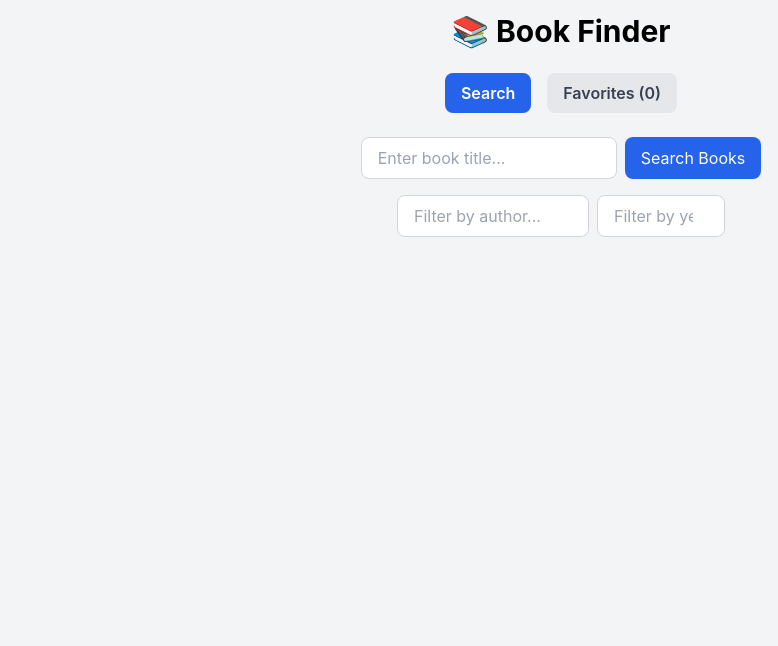
Test: BookFinder Component › filters by year
Type "Books" into the field with placeholder "Enter book title..." at (489, 158), box [361,137,617,179]
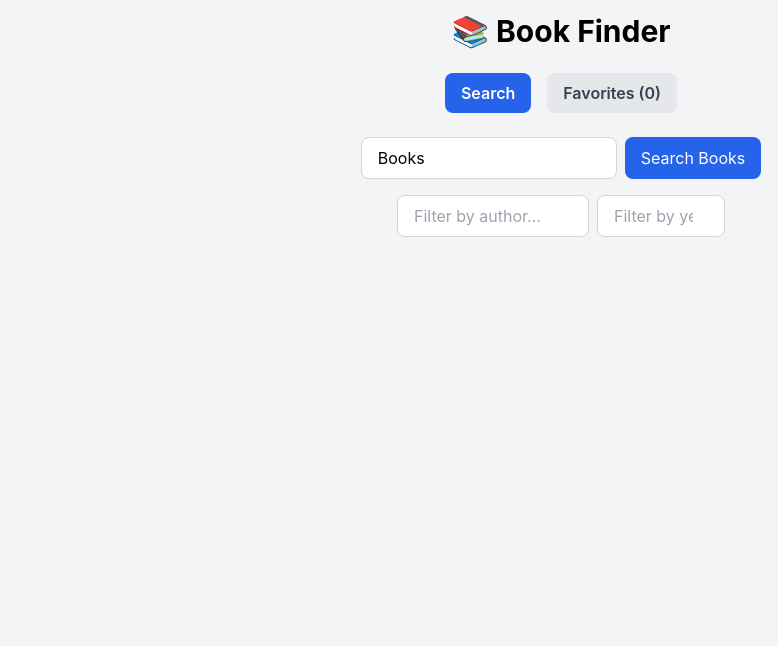
Click the button "Search Books" at (693, 158), box [625,137,761,179]
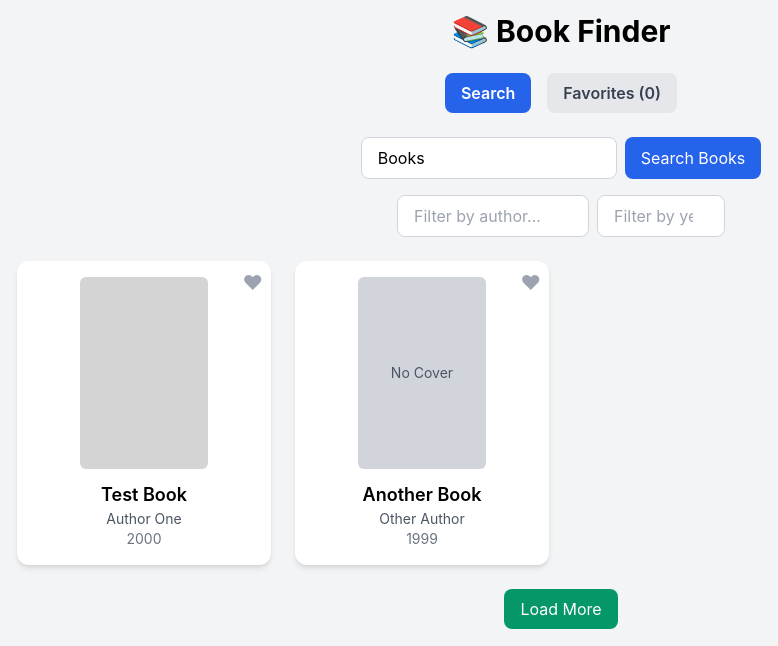
Result: the heading "Test Book" is shown at [101,481,187,509]
// Apply filter for year 1999
Type "1999" into the number field with placeholder "Filter by year..." at (661, 216), box [597,195,725,237]
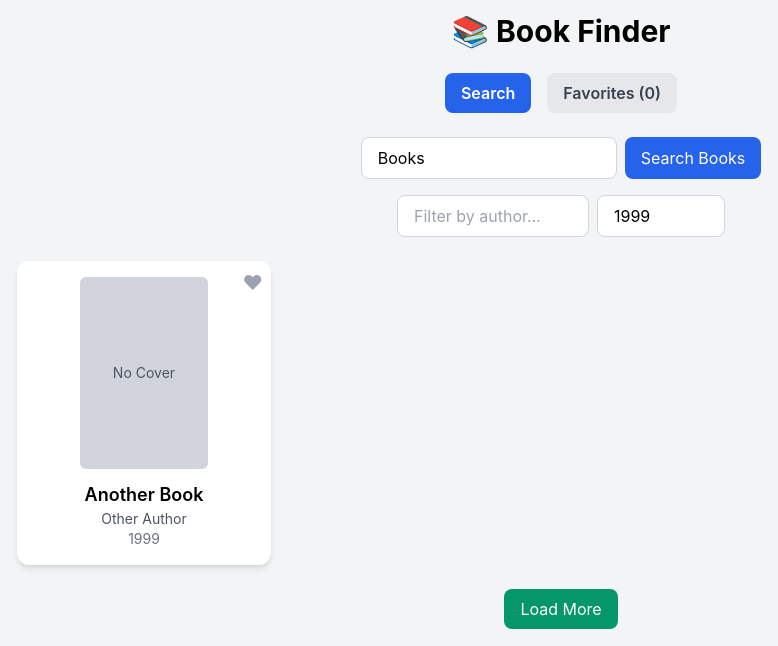
Result: the heading "Another Book" is shown at [85,481,203,509]
Result: the heading "Test Book" is gone
